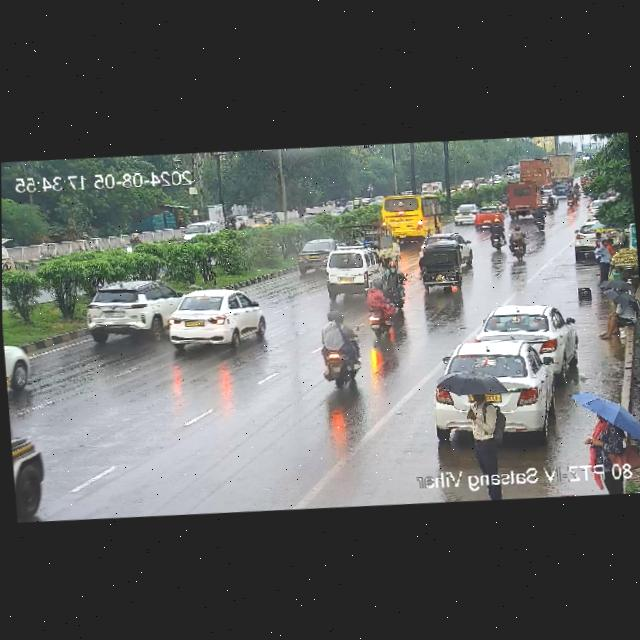bus: (364, 182, 440, 248)
car: (426, 347, 554, 442), (76, 264, 181, 361), (169, 283, 263, 364), (482, 303, 575, 379), (8, 399, 55, 510), (316, 241, 383, 308), (408, 221, 476, 282), (416, 238, 468, 297), (3, 331, 38, 406), (293, 235, 339, 278), (569, 218, 606, 262), (446, 192, 481, 234), (180, 210, 216, 241), (582, 191, 607, 222), (474, 204, 500, 232), (2, 227, 19, 269), (251, 204, 278, 227), (449, 173, 479, 191)
motorcycle: (301, 302, 361, 400), (349, 279, 406, 347), (382, 254, 409, 305), (502, 220, 528, 272), (486, 216, 509, 253), (528, 206, 550, 233), (562, 188, 578, 212), (571, 182, 584, 201)
person: (445, 375, 513, 471), (569, 386, 640, 465), (599, 290, 635, 335), (582, 235, 614, 283), (593, 276, 628, 305), (587, 230, 603, 260), (603, 234, 616, 254)
truck: (499, 179, 541, 224), (516, 156, 549, 190), (546, 152, 572, 187)
